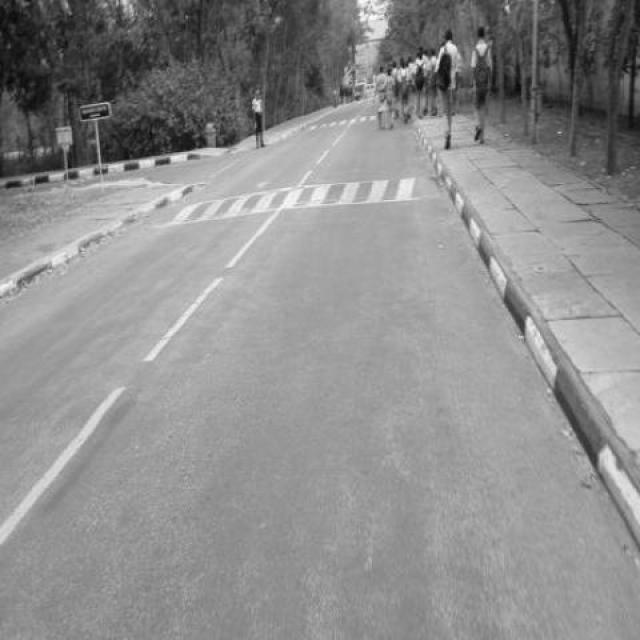Speed Bump: (153, 174, 436, 228)
